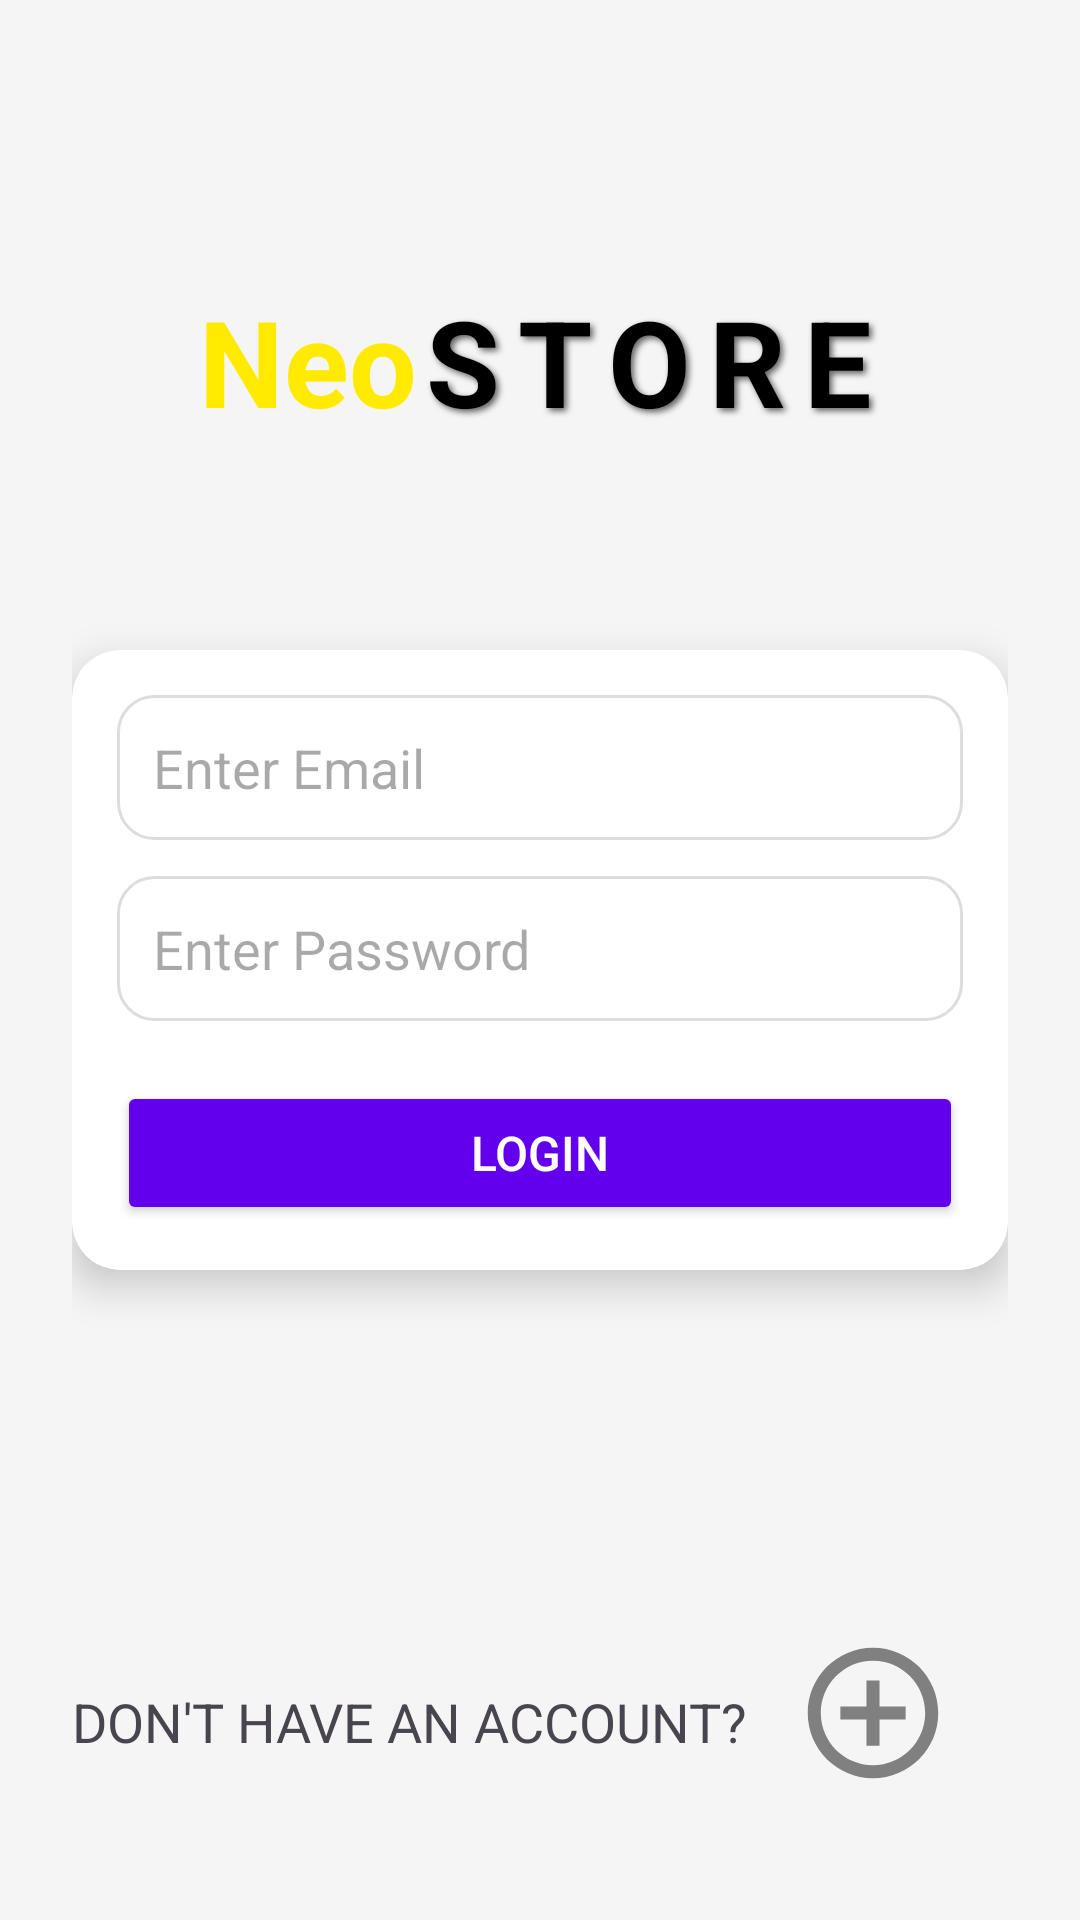

Screen size 1080×1920. Icon name, then its center in pixels as (x=x, y=y):
add: (x=873, y=1713)
